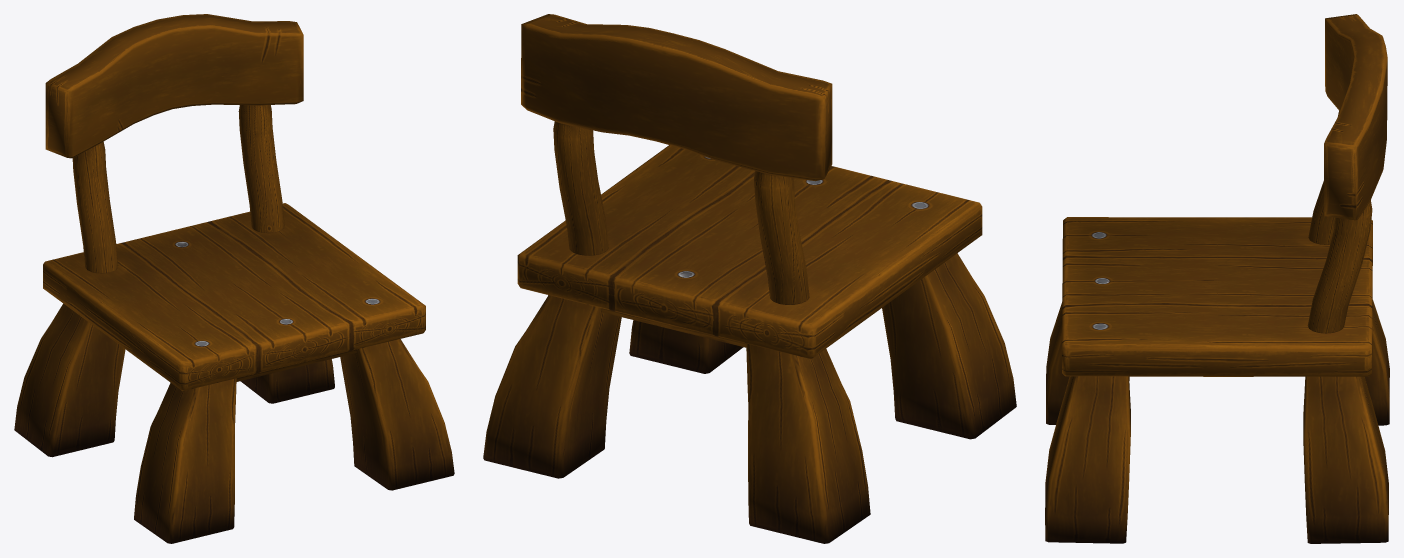
The model's file is Chair 5.fbx.
The picture shows the model from 3 angles, left to right: view 1: azimuth 30°, elevation 25°; view 2: azimuth 150°, elevation 25°; view 3: azimuth 270°, elevation 25°; orthographic projection. The views are drawn at different scales.
Visible parts, largest first — view 1: Chair 5; view 2: Chair 5; view 3: Chair 5.
Part boxes in pixels (bbox=[...]): Chair 5: bbox=[14, 14, 454, 543]; Chair 5: bbox=[483, 14, 1016, 543]; Chair 5: bbox=[1045, 14, 1389, 543].
Size of the model in its own units: 95.4 by 120 by 90.78.
